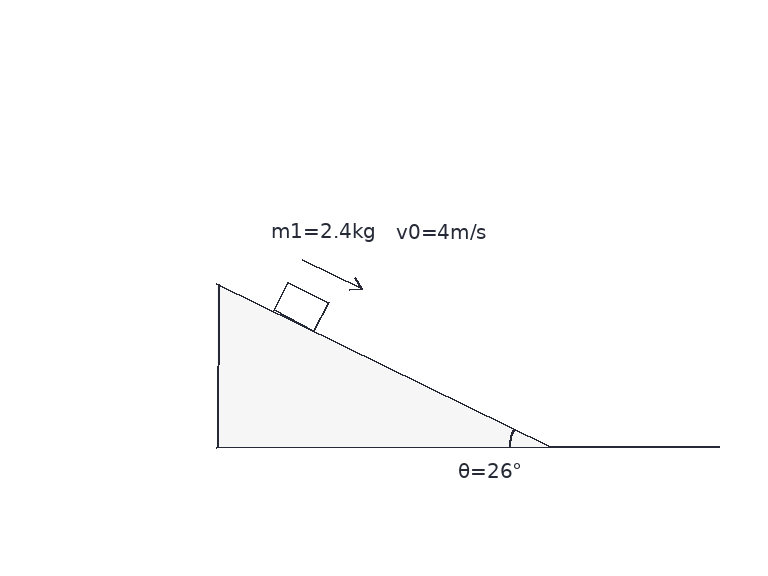block: (272, 280, 329, 333)
ramp: (215, 282, 552, 448)
